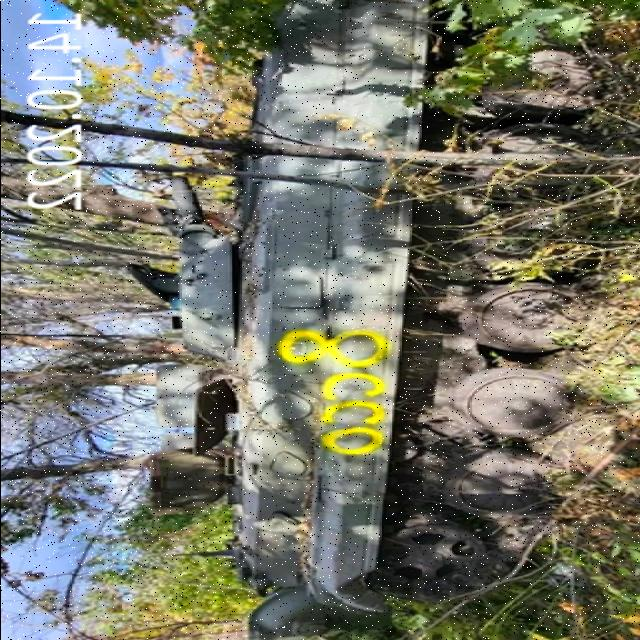APC-IFV: (120, 0, 598, 619)
